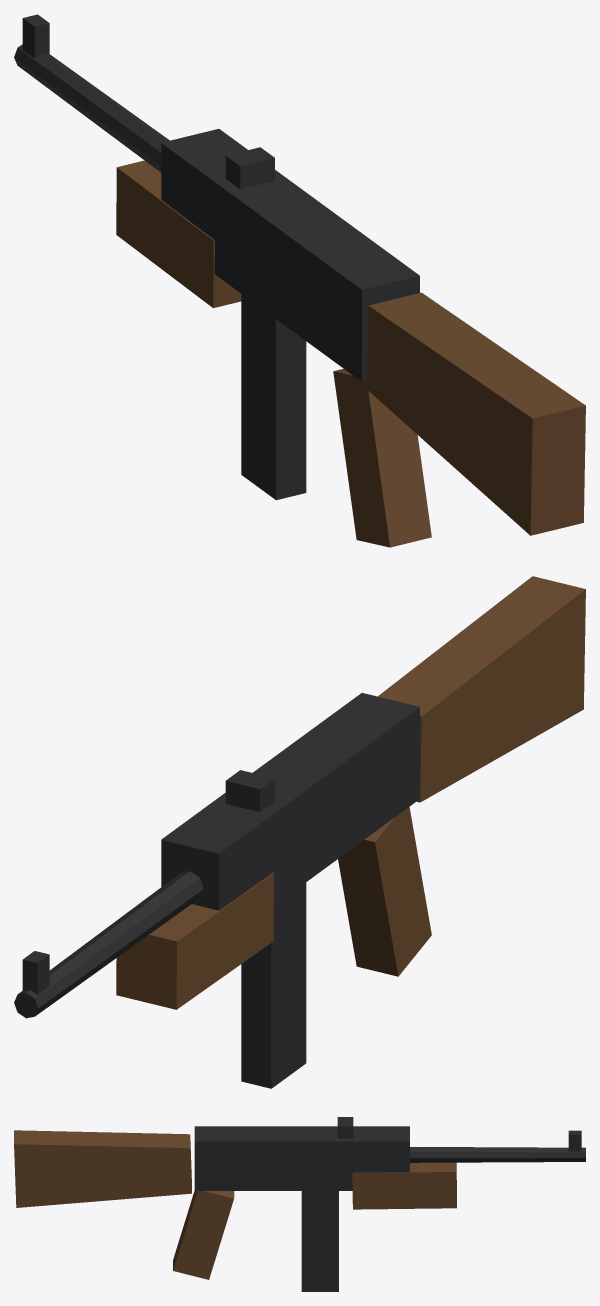
The model's file is thompson.glb.
3 views of the same model, one above another, from view 1: azimuth 30°, elevation 25°; view 2: azimuth 150°, elevation 25°; view 3: azimuth 270°, elevation 25° (orthographic). The views are drawn at different scales.
Parts seen in each view (by area): view 1: thompson; view 2: thompson; view 3: thompson.
Boxes of the visible parts, left/top/right/bottom form: thompson: left=14, top=14, right=585, bottom=547; thompson: left=14, top=576, right=585, bottom=1088; thompson: left=14, top=1117, right=585, bottom=1291.
Bounding box in the file's own units: 0.052 × 0.2555 × 0.7966.
